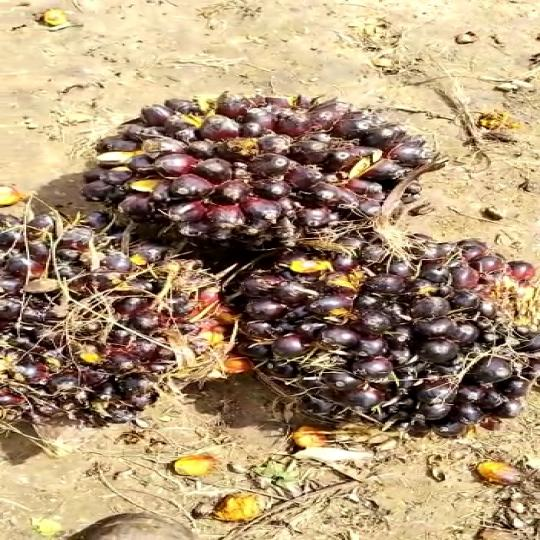mentah: (197, 231, 540, 431), (90, 90, 459, 251), (0, 186, 191, 443)
